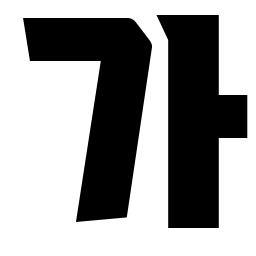Gaji: (156, 85, 237, 157)
